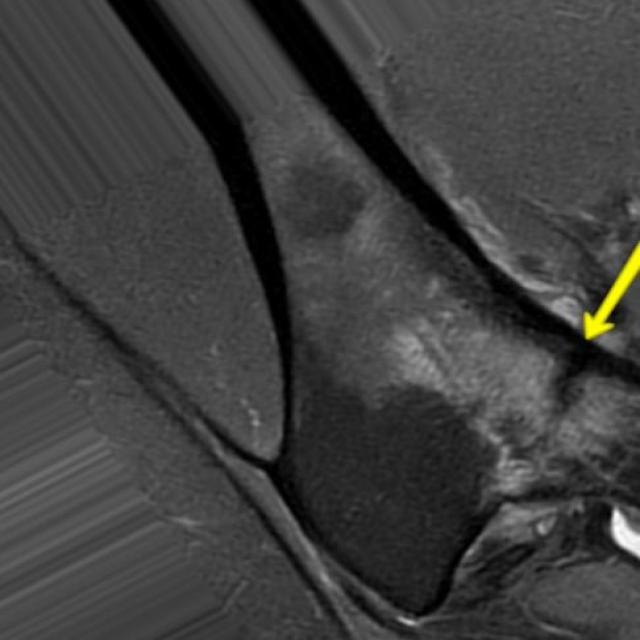Transverse Displaced: (546, 330, 607, 439)
